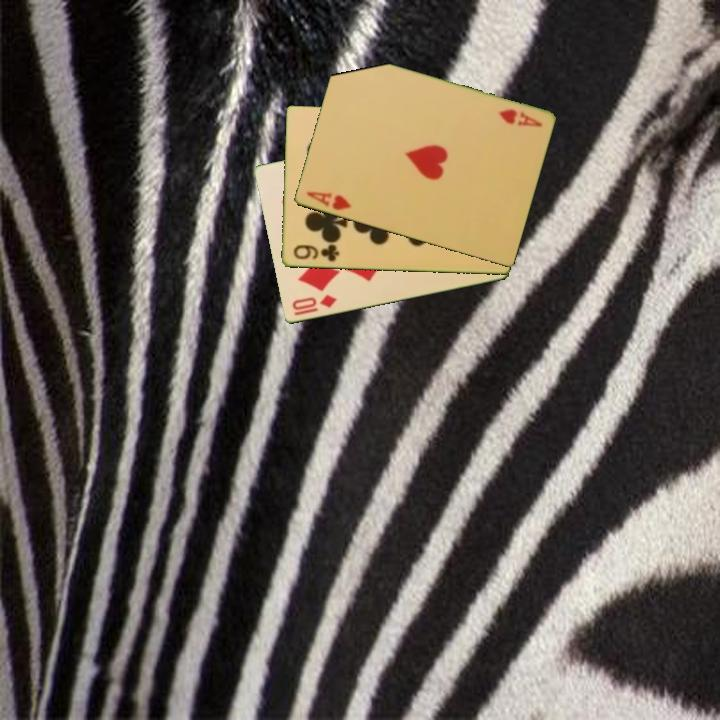10d: (288, 291, 339, 314)
9c: (290, 242, 342, 265)
Ah: (302, 188, 354, 213), (495, 106, 545, 130)
